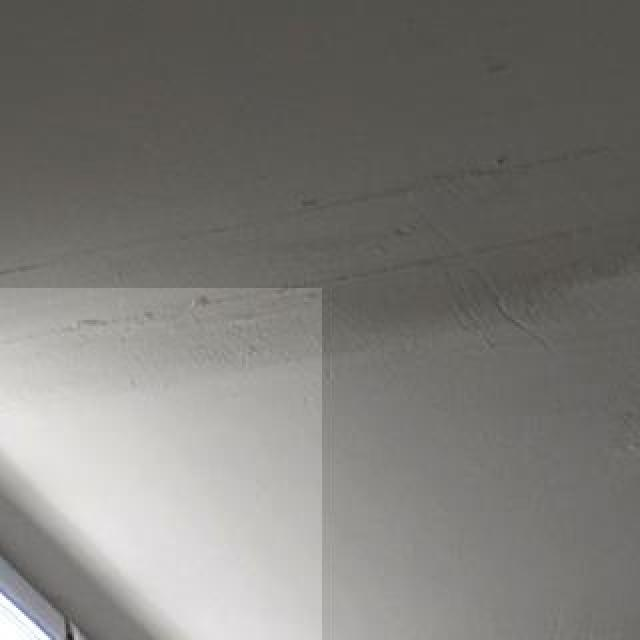fluorescent tube: (0, 354, 282, 640)
